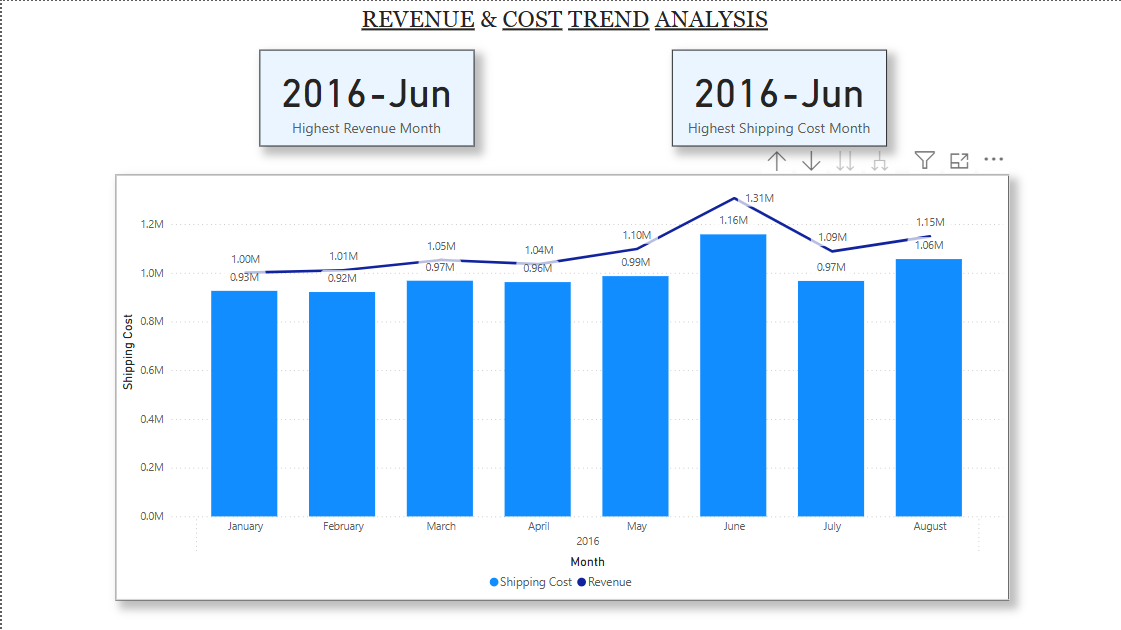

Layout of this report page (visuals, bound fields, positions):
{"tool":"powerbi","page":{"name":"Revenue & Cost Trend Analysis","canvas":[1280,720],"ordinal":3},"visuals":[{"type":"textbox","box":[393,0,494.2,44.2],"z":0},{"type":"lineClusteredColumnComboChart","fields":{"Y":["Sum(Sheet1.ShippingCost)"],"Y2":["Sum(Sheet1.Revenue)"],"Category":["Sheet1.ShipDate.Variation.Date Hierarchy.Year","Sheet1.ShipDate.Variation.Date Hierarchy.Month"]},"box":[130.2,198.8,1020.9,486],"z":1000},{"type":"card","fields":{"Values":["Sheet1.MaxRevenueMonth"]},"box":[294.2,55.8,245.3,110.5],"z":2000},{"type":"card","fields":{"Values":["Efficiency_By_State.MaxShippingCostMonth"]},"box":[765.1,55.8,245.3,110.5],"z":3000}]}

Visuals, with their boxes in screenshot pixels (x1, y1, x2, y2), scaled from the page's 1280x720 canvas onto the 1121x630 screenshot:
textbox: crop(344, 0, 777, 39)
lineClusteredColumnComboChart - Sum(Sheet1.ShippingCost) x Sum(Sheet1.Revenue): crop(114, 174, 1008, 599)
card - Sheet1.MaxRevenueMonth: crop(258, 49, 472, 146)
card - Efficiency_By_State.MaxShippingCostMonth: crop(670, 49, 885, 146)
